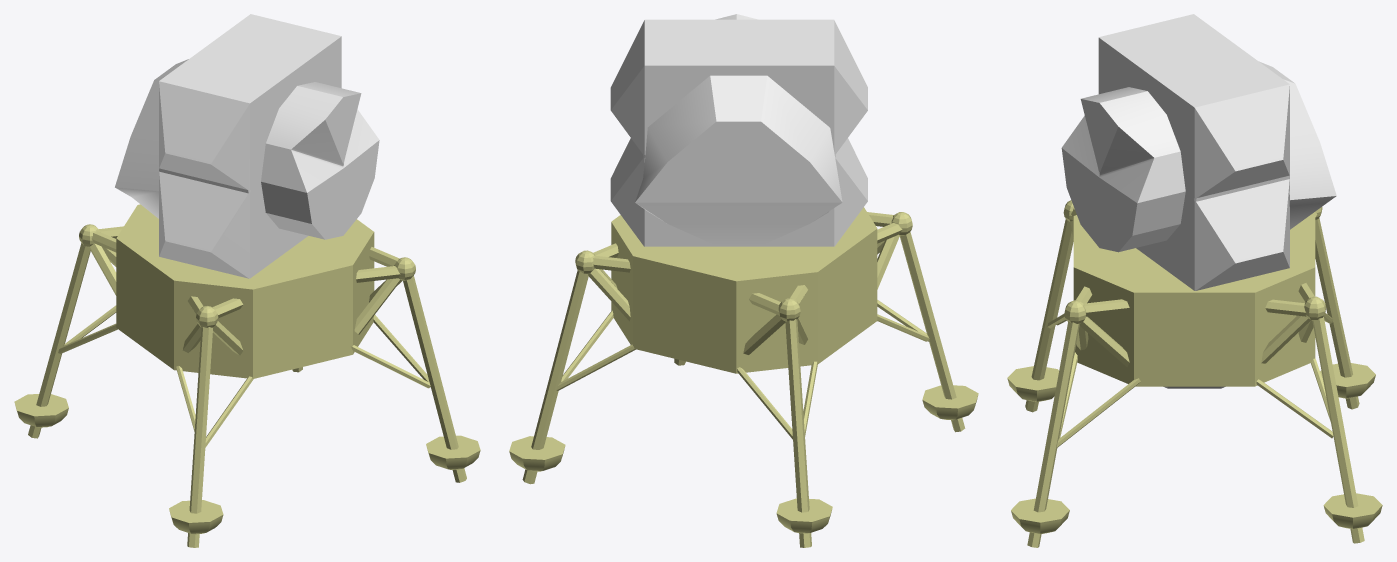
File: apollo7.glb
3 renders of one model, left to right at view 1: azimuth 30°, elevation 25°; view 2: azimuth 150°, elevation 25°; view 3: azimuth 270°, elevation 25°, orthographic. The views are drawn at different scales.
Parts seen in each view (by area): view 1: pasted__pCube5, pCube1, pasted__pCylinder1, pasted__pCube8, pCylinder4.003, pCylinder4.002, pCylinder4.001, pSphere2.001, pSphere2.003, pSphere2.002, pCylinder6.002, pCylinder5.002 (+1 smaller); view 2: pCube1, pasted__pCube5, pasted__pCube8, pCylinder4.001, pCylinder4, pCylinder4.003, pSphere2, pSphere2.001, pSphere2.003, pCylinder5, pCylinder5.001, pCylinder6.001 (+1 smaller); view 3: pasted__pCube5, pCube1, pasted__pCylinder1, pasted__pCube8, pCylinder4.002, pCylinder4, pCylinder4.003, pCylinder4.001, pSphere2.002, pSphere2, pSphere2.003, pSphere2.001 (+6 smaller).
Part boxes in pixels (x1=…): pasted__pCube5: x1=159, y1=14, x2=341, y2=278; pCube1: x1=116, y1=204, x2=374, y2=378; pasted__pCylinder1: x1=261, y1=82, x2=379, y2=239; pasted__pCube8: x1=115, y1=59, x2=188, y2=218; pCylinder4.003: x1=187, y1=327, x2=212, y2=547; pCylinder4.002: x1=403, y1=275, x2=466, y2=482; pCylinder4.001: x1=28, y1=243, x2=90, y2=438; pSphere2.001: x1=14, y1=394, x2=68, y2=427; pSphere2.003: x1=169, y1=500, x2=223, y2=534; pSphere2.002: x1=426, y1=435, x2=480, y2=469; pCylinder6.002: x1=354, y1=278, x2=400, y2=334; pCylinder5.002: x1=89, y1=243, x2=116, y2=295; pCube1: x1=611, y1=207, x2=877, y2=373; pasted__pCube5: x1=610, y1=19, x2=867, y2=246; pasted__pCube8: x1=635, y1=75, x2=842, y2=245; pCylinder4.001: x1=785, y1=319, x2=811, y2=547; pCylinder4: x1=522, y1=270, x2=588, y2=484; pCylinder4.003: x1=900, y1=232, x2=965, y2=432; pSphere2: x1=509, y1=436, x2=565, y2=471; pSphere2.001: x1=776, y1=498, x2=832, y2=533; pSphere2.003: x1=922, y1=385, x2=978, y2=420; pCylinder5: x1=588, y1=268, x2=630, y2=321; pCylinder5.001: x1=556, y1=344, x2=635, y2=390; pCylinder6.001: x1=743, y1=314, x2=785, y2=354; pasted__pCube5: x1=1098, y1=14, x2=1289, y2=290; pCube1: x1=1073, y1=214, x2=1315, y2=386; pasted__pCylinder1: x1=1061, y1=87, x2=1185, y2=252; pasted__pCube8: x1=1259, y1=61, x2=1336, y2=229; pCylinder4.002: x1=1027, y1=321, x2=1079, y2=547; pCylinder4: x1=1312, y1=316, x2=1364, y2=543; pCylinder4.003: x1=1025, y1=219, x2=1073, y2=412; pCylinder4.001: x1=1315, y1=218, x2=1359, y2=409; pSphere2.002: x1=1011, y1=498, x2=1069, y2=534; pSphere2: x1=1323, y1=493, x2=1382, y2=529; pSphere2.003: x1=1007, y1=366, x2=1058, y2=401; pSphere2.001: x1=1320, y1=363, x2=1375, y2=398.
Size of the model in its own units: 0.0741 by 0.0899 by 0.0732.
